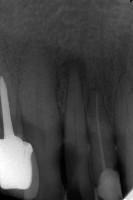Furcation Involvement: (55, 54, 87, 87), (117, 18, 133, 74)
